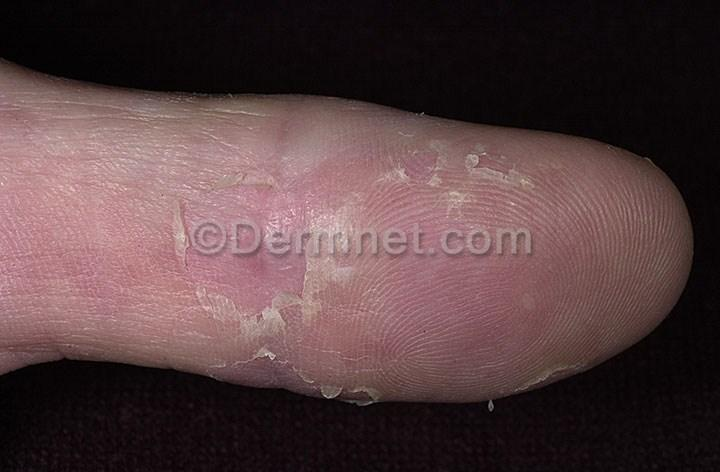Eczema: (0, 80, 226, 228), (384, 258, 558, 424), (187, 253, 368, 397), (221, 95, 415, 225), (8, 234, 182, 349), (400, 124, 573, 223), (575, 162, 674, 304)
